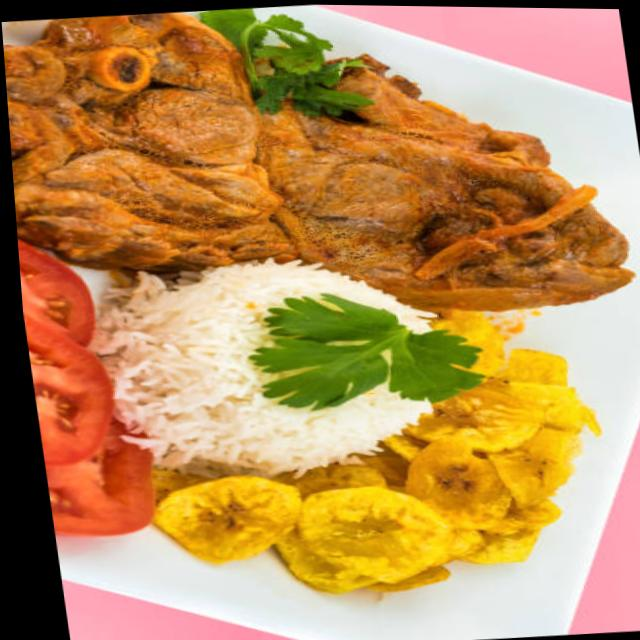BANANA CHIPS: (148, 314, 593, 593)
CHICKEN FRY: (3, 15, 632, 312)
RICE: (86, 264, 484, 470)
